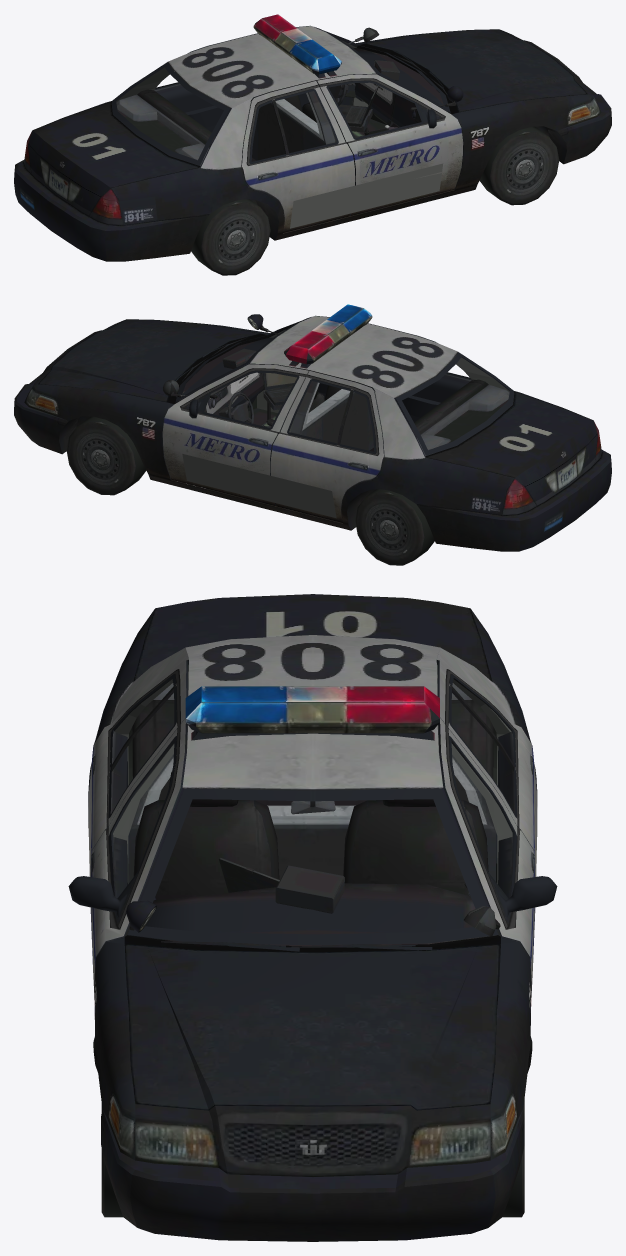
Rendered from size-2-car-3.glb.
3 views of the same model, one above another, from view 1: azimuth 30°, elevation 25°; view 2: azimuth 150°, elevation 25°; view 3: azimuth 270°, elevation 25° (orthographic). The views are drawn at different scales.
Parts seen in each view (by area): view 1: mtl_policecar_lapd_metal, mtl_policecar_interior, mtl_policecar_russia_decal, mtl_policecar_chrome; view 2: mtl_policecar_lapd_metal, mtl_policecar_interior, mtl_policecar_russia_decal, mtl_policecar_chrome; view 3: mtl_policecar_lapd_metal, mtl_policecar_interior, mtl_policecar_chrome.
Part boxes in pixels (x1,y1,x2,y2): mtl_policecar_lapd_metal: [14, 14, 611, 275]; mtl_policecar_interior: [116, 27, 447, 166]; mtl_policecar_russia_decal: [290, 163, 443, 228]; mtl_policecar_chrome: [246, 78, 456, 165]; mtl_policecar_lapd_metal: [14, 304, 611, 565]; mtl_policecar_interior: [163, 337, 509, 456]; mtl_policecar_russia_decal: [182, 454, 336, 518]; mtl_policecar_chrome: [180, 325, 379, 455]; mtl_policecar_lapd_metal: [68, 594, 557, 1241]; mtl_policecar_interior: [129, 683, 500, 945]; mtl_policecar_chrome: [105, 669, 520, 930].
Bounding box in the file's own units: 17.54 × 5.42 × 6.96.
8 materials, 6 textured.
